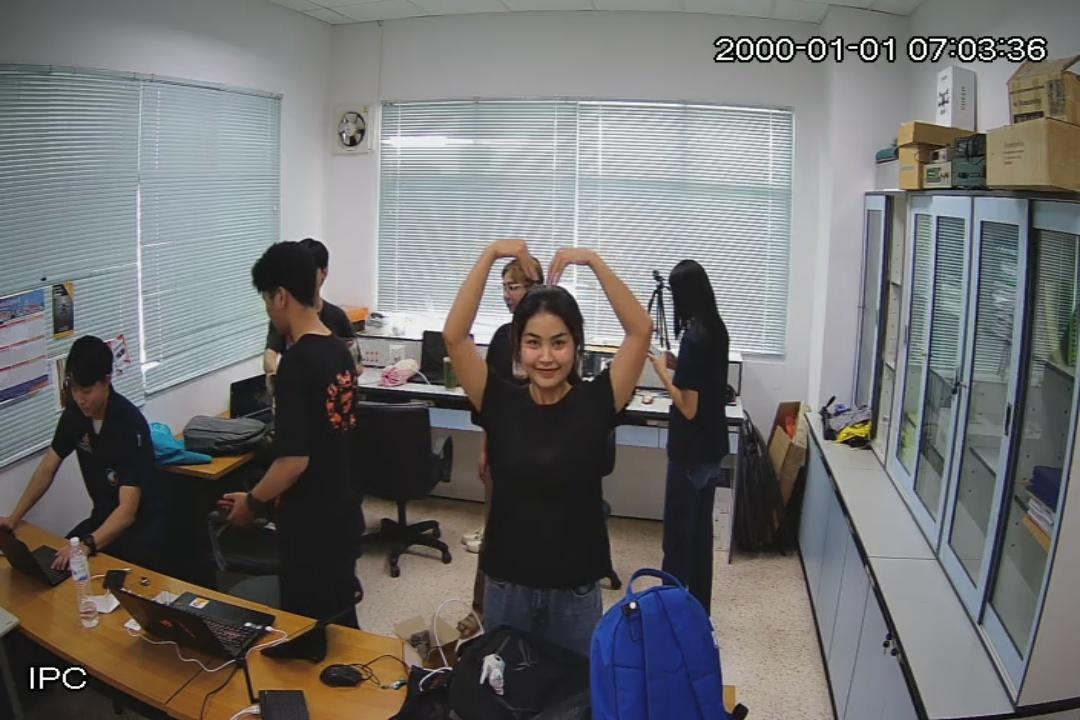normal: (442, 239, 655, 698), (232, 234, 370, 616), (654, 260, 748, 616), (54, 326, 182, 566)
